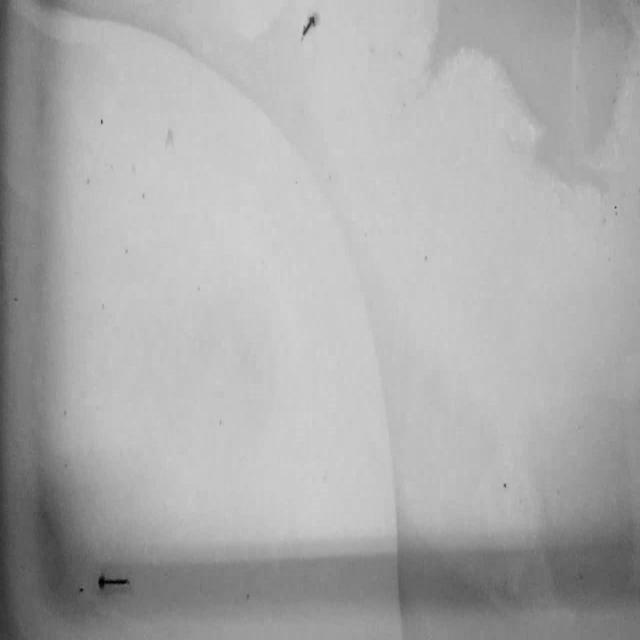larvas: (97, 576, 131, 590), (301, 15, 314, 38)
